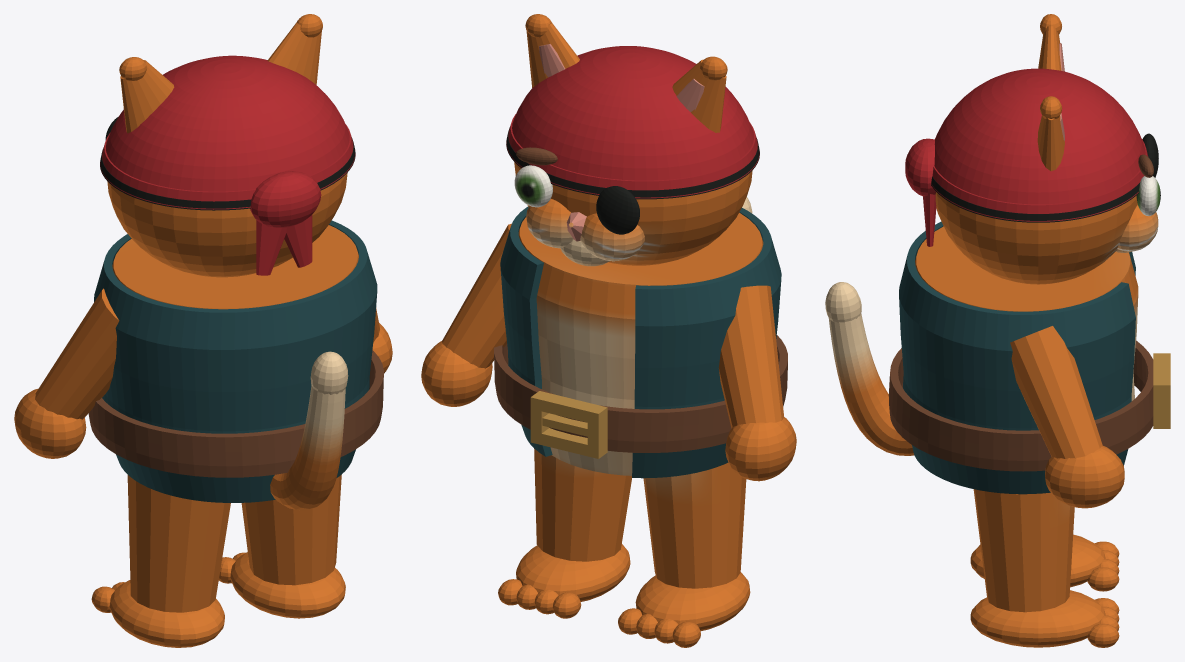
3 renders of one model, left to right at view 1: azimuth 30°, elevation 25°; view 2: azimuth 150°, elevation 25°; view 3: azimuth 270°, elevation 25°, orthographic. The views are drawn at different scales.
Bounding box in the file's own units: 0.798 × 1.21 × 0.6822.
Materials: 1 (1 with a texture image).
